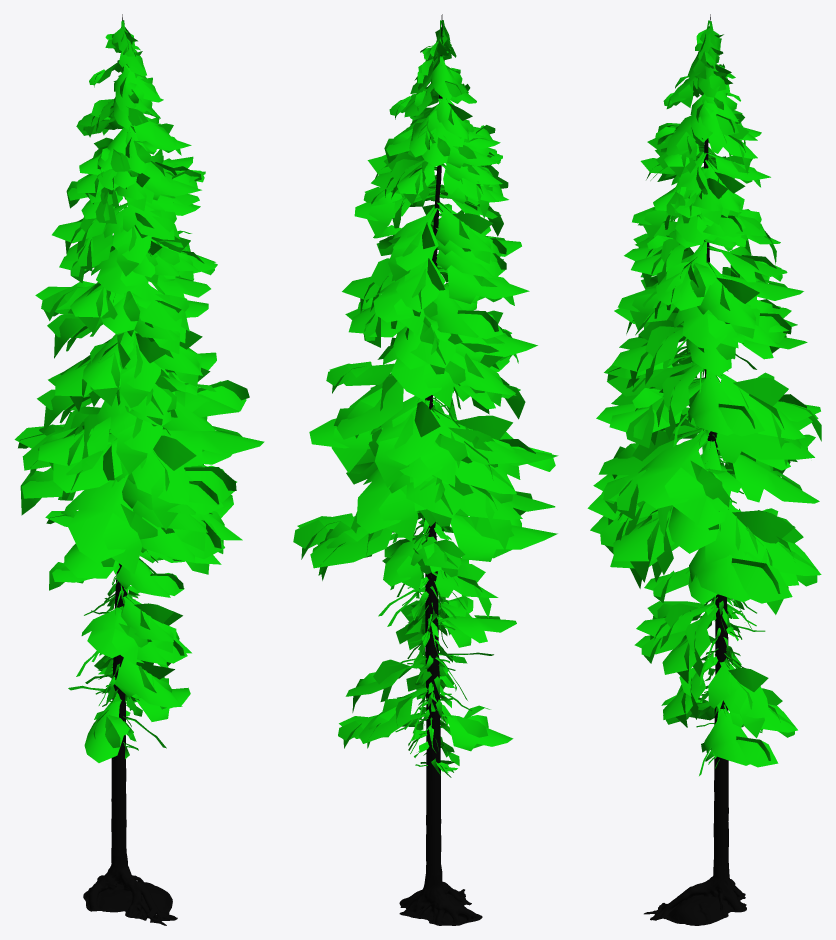
File: pine_007_RootStump.FBX
3 views of the same model, side by side, from view 1: azimuth 30°, elevation 25°; view 2: azimuth 150°, elevation 25°; view 3: azimuth 270°, elevation 25° (orthographic).
Visible parts, largest first — view 1: pine_007_LOD0; view 2: pine_007_LOD0; view 3: pine_007_LOD0.
Part boxes in pixels (x1,y1,x2,y2): pine_007_LOD0: [14, 14, 264, 925]; pine_007_LOD0: [293, 14, 558, 925]; pine_007_LOD0: [587, 14, 821, 925].
Size of what is drawn, in the model's own units: 835 by 3296 by 782.
